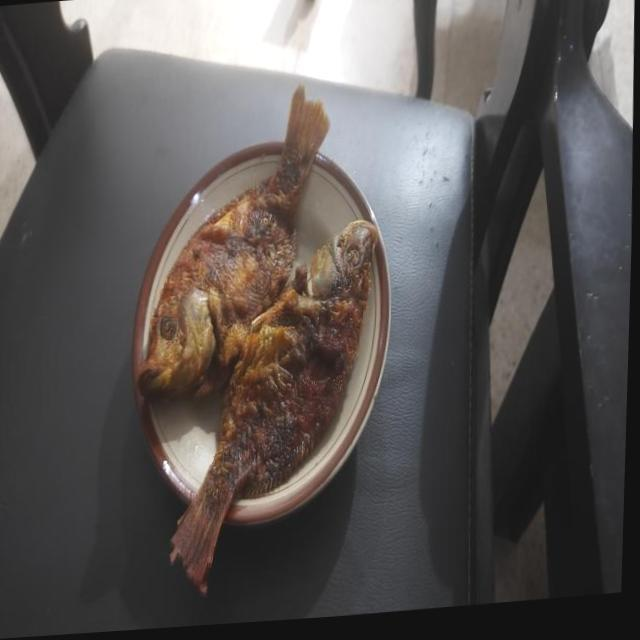ikan_mujair: (170, 219, 377, 592), (138, 85, 329, 399)
